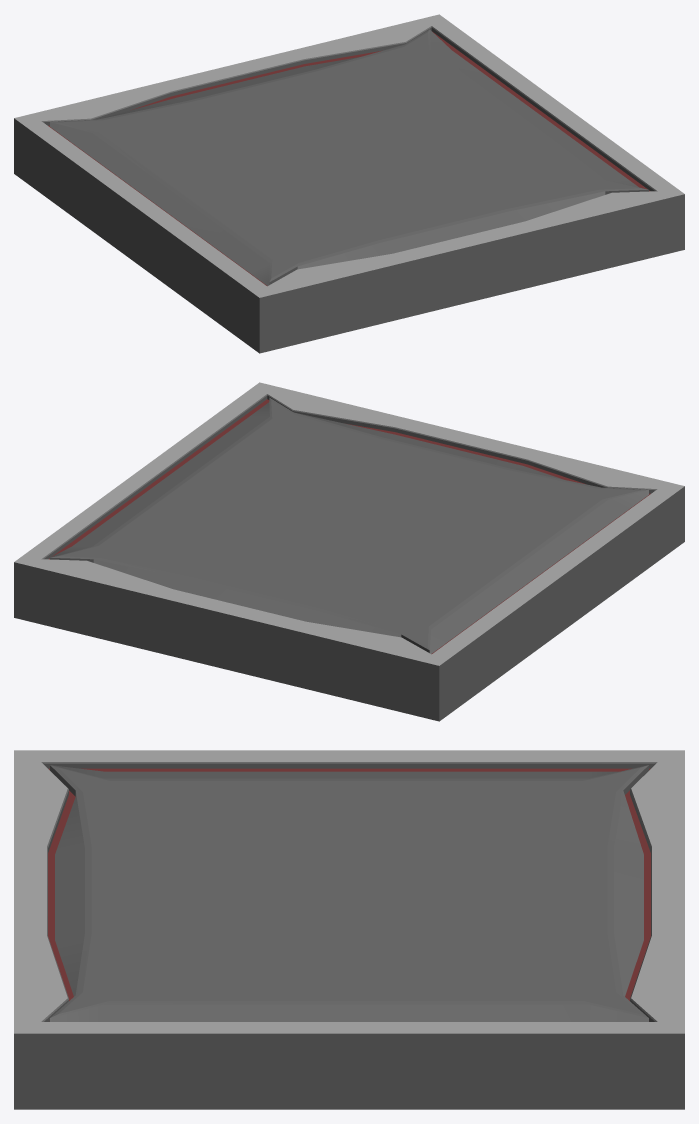
File: EdgeFloor.fbx
3 views of the same model, one above another, from view 1: azimuth 30°, elevation 25°; view 2: azimuth 150°, elevation 25°; view 3: azimuth 270°, elevation 25° (orthographic). The views are drawn at different scales.
Visible parts, largest first — view 1: EdgeFloor; view 2: EdgeFloor; view 3: EdgeFloor.
Part boxes in pixels (bbox=[...]): EdgeFloor: bbox=[14, 14, 684, 353]; EdgeFloor: bbox=[14, 382, 684, 721]; EdgeFloor: bbox=[14, 750, 684, 1109].
Bounding box in the file's own units: 200 × 25.36 × 200.
